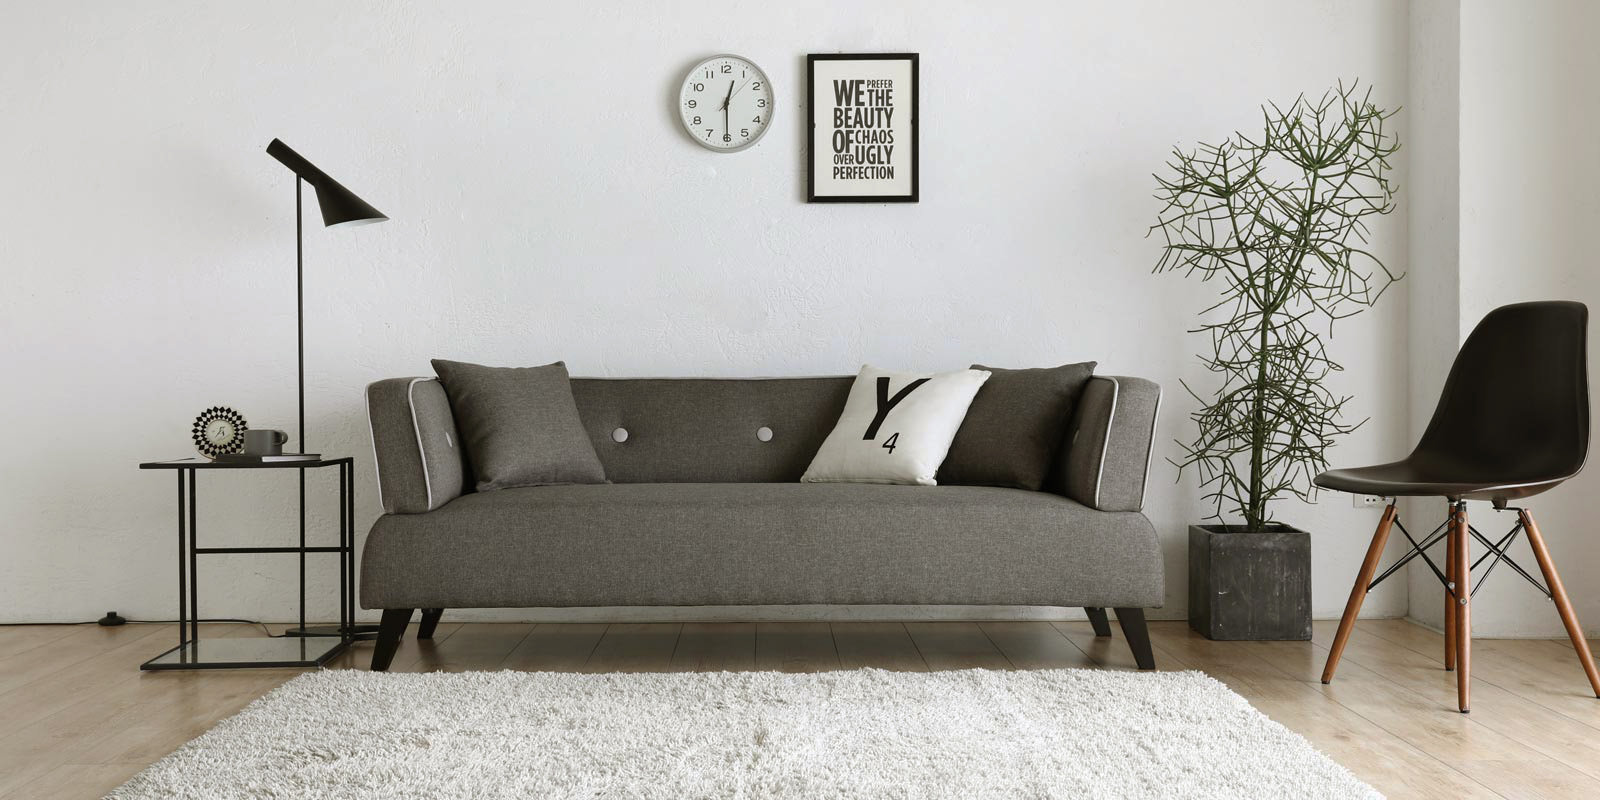Dime Three Seater Sofa in Grey Colour by Zofa: (360, 351, 1174, 671)
